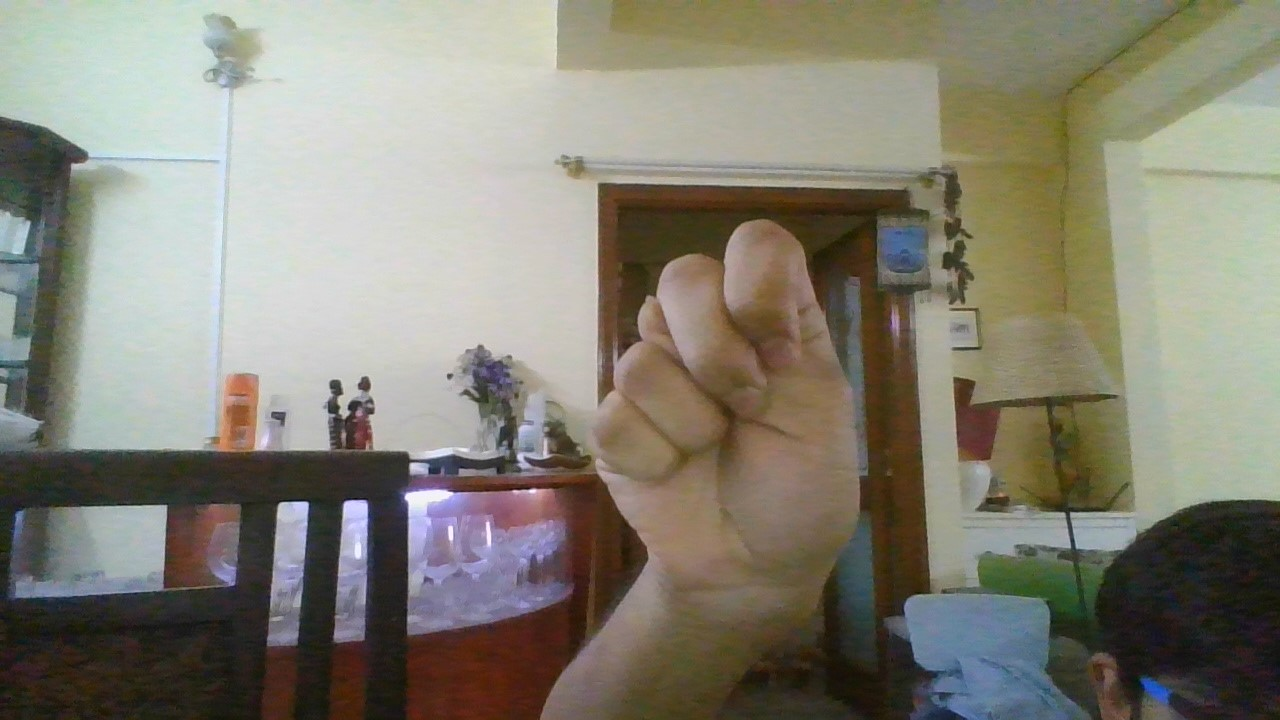n: (587, 217, 865, 593)
